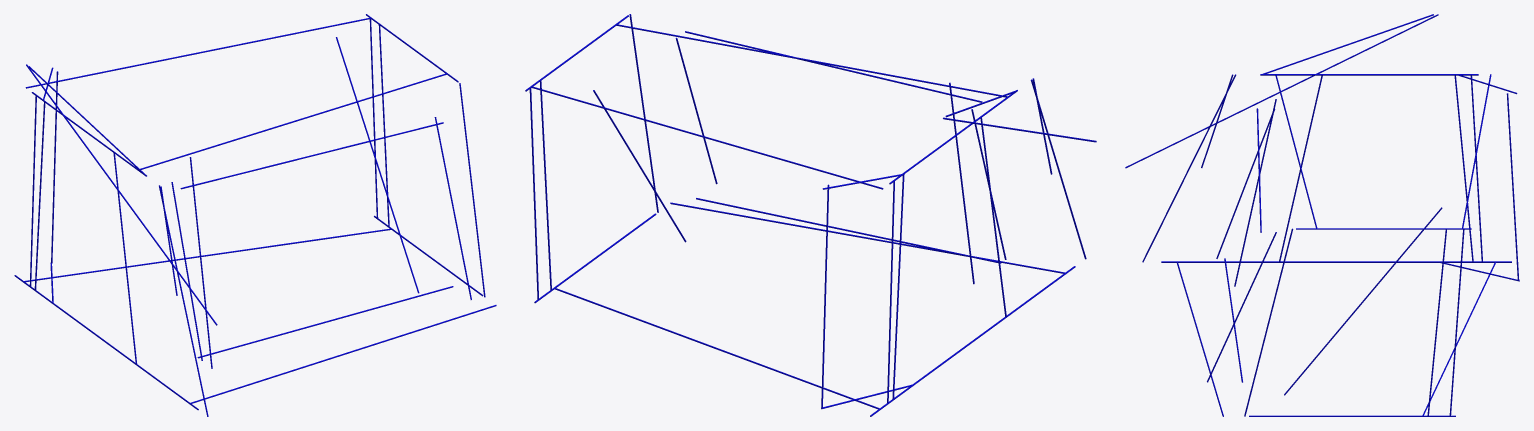
The model's file is corrected_3d_strokes.glb.
3 renders of one model, left to right at view 1: azimuth 30°, elevation 25°; view 2: azimuth 150°, elevation 25°; view 3: azimuth 270°, elevation 25°, orthographic. The views are drawn at different scales.
Parts seen in each view (by area): view 1: world; view 2: world; view 3: world.
Part boxes in pixels (bbox=[...]): world: bbox=[14, 14, 496, 416]; world: bbox=[525, 14, 1096, 416]; world: bbox=[1125, 14, 1519, 416].
Bounding box in the file's own units: 10.65 × 7 × 10.61.
